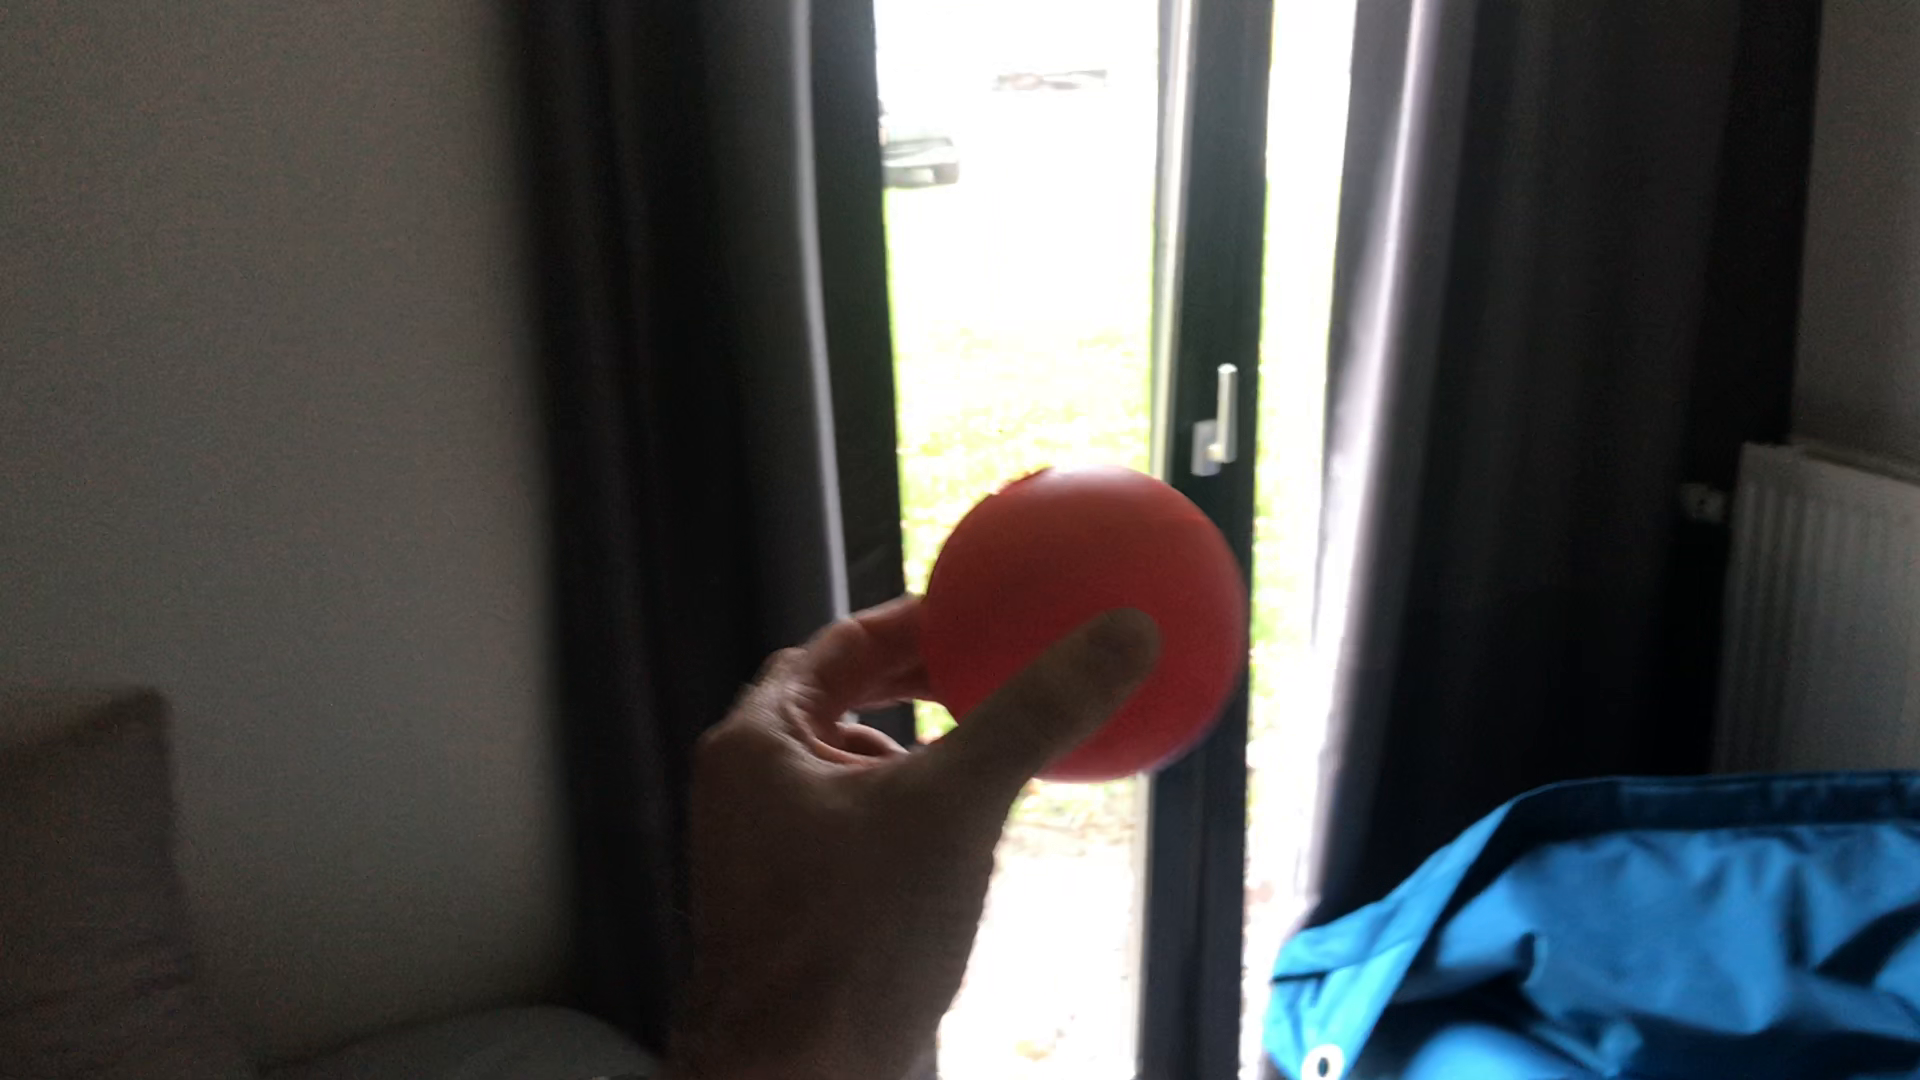Ball: (922, 462, 1244, 785)
